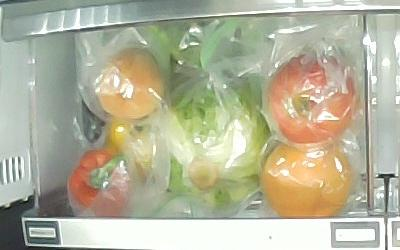apple_vinyl: (267, 55, 360, 143)
eggplant_vinyl: (82, 95, 104, 144)
grapefruit_vinyl: (263, 141, 353, 218)
lettuce_vinyl: (165, 85, 269, 205)
paprika_vinyl: (68, 149, 133, 218), (106, 118, 155, 181)
peach_vinyl: (95, 50, 164, 119)
